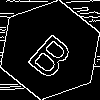B: (25, 25, 82, 82)
